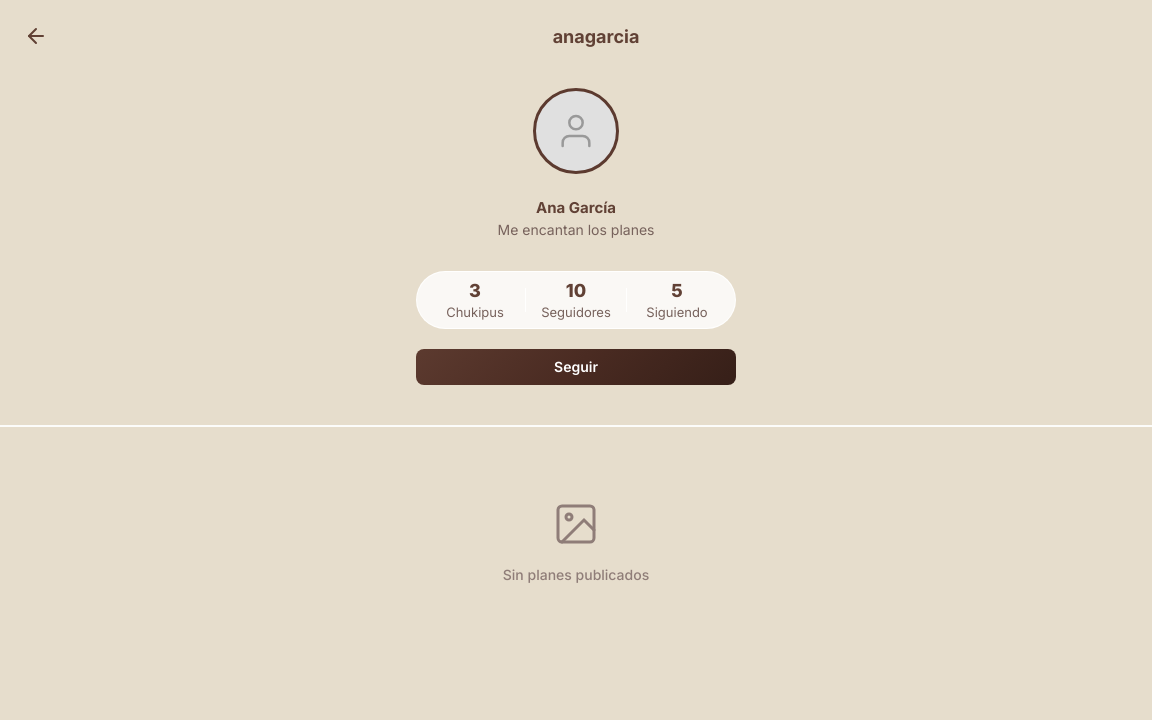
UserProfilePage › shows error message when follow fails — if this fails, errors are silently swallowed
The image size is (1152, 720).
Click the button "Seguir" at {"x": 576, "y": 367}, box [416, 349, 736, 385]
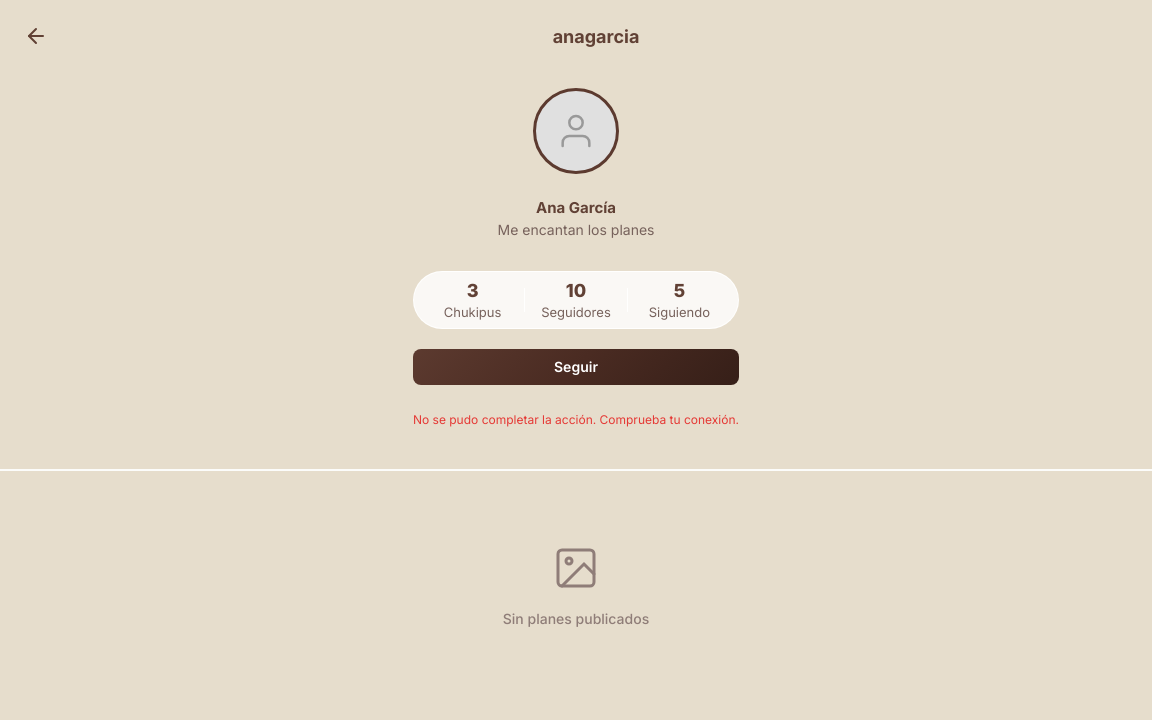
Expected: the button "Seguir" is shown, [413, 349, 739, 385]
Expected: the text "No se pudo completar la acción. Comprueba tu conexión." is shown, [413, 411, 739, 429]
